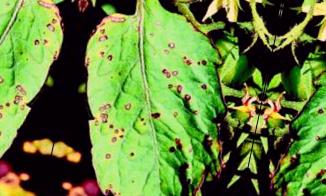Tomato leaf bacterial spot: (56, 0, 244, 196)
